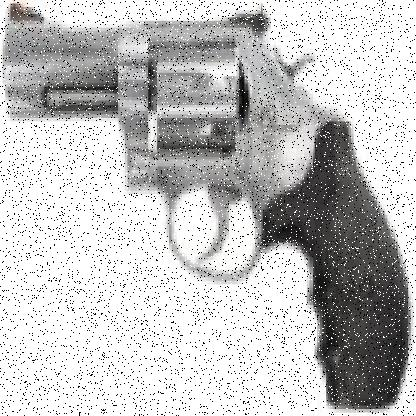pistol: (8, 3, 406, 412)
